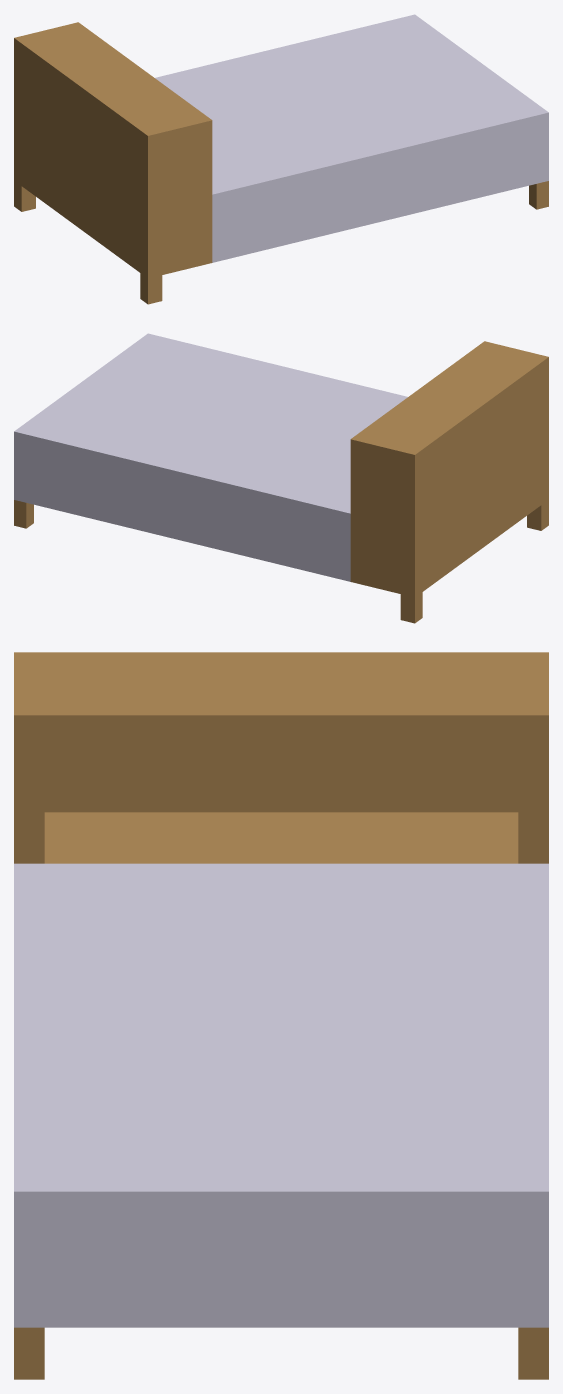
Rendered from room_bed.fbx.
The picture shows the model from 3 angles, top to bottom: view 1: azimuth 30°, elevation 25°; view 2: azimuth 150°, elevation 25°; view 3: azimuth 270°, elevation 25°; orthographic projection. The views are drawn at different scales.
Parts seen in each view (by area): view 1: pCube1; view 2: pCube1; view 3: pCube1.
Part boxes in pixels (x1,y1,x2,y2): pCube1: (14, 14, 548, 304); pCube1: (14, 333, 548, 623); pCube1: (14, 652, 548, 1379).
Size of the model in its own units: 13.63 by 5.47 by 7.89.
